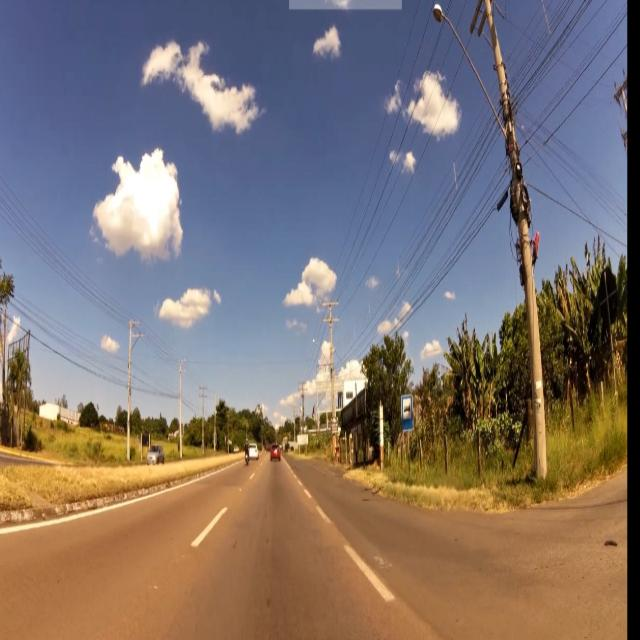S-14: (401, 392, 413, 430)
